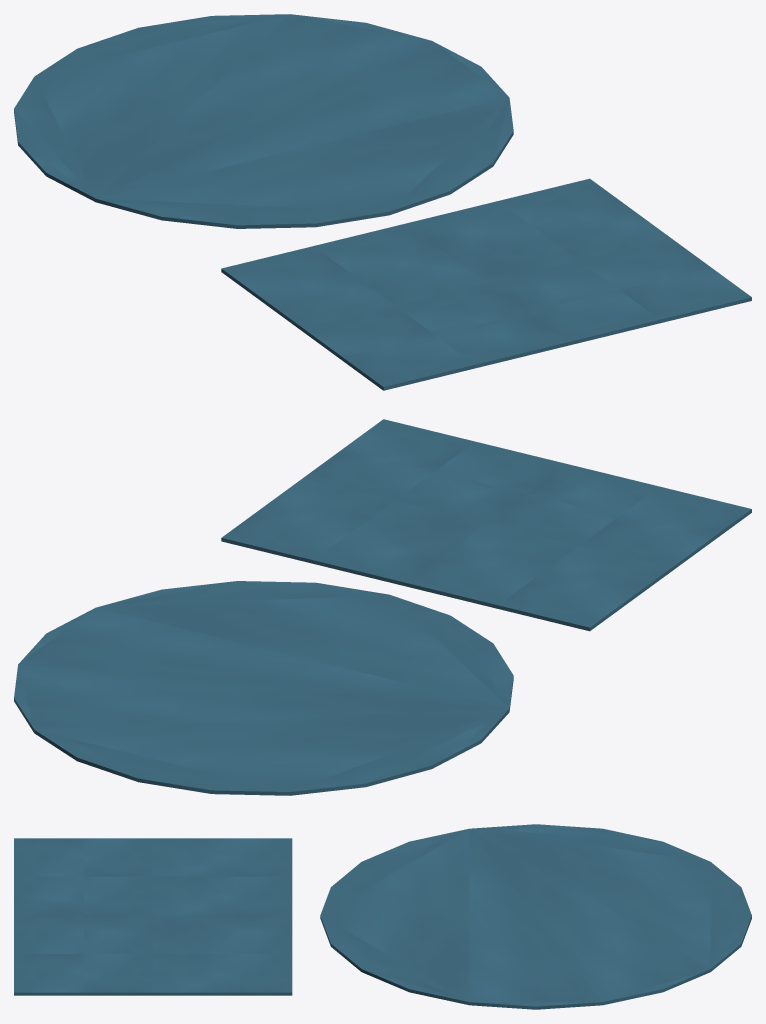
Rendered from SM_Stream_Water_PoolEnd.fbx.
3 views of the same model, one above another, from view 1: azimuth 30°, elevation 25°; view 2: azimuth 150°, elevation 25°; view 3: azimuth 270°, elevation 25° (orthographic). The views are drawn at different scales.
Visible parts, largest first — view 1: SM_Stream_Water_PoolEnd; view 2: SM_Stream_Water_PoolEnd; view 3: SM_Stream_Water_PoolEnd.
Part boxes in pixels (left/top/right/bottom): SM_Stream_Water_PoolEnd: left=14, top=14, right=751, bottom=390; SM_Stream_Water_PoolEnd: left=14, top=419, right=751, bottom=795; SM_Stream_Water_PoolEnd: left=14, top=824, right=751, bottom=1009.
Bounding box in the file's own units: 12.4 × 0.1 × 21.2.
1 material, 1 textured.
